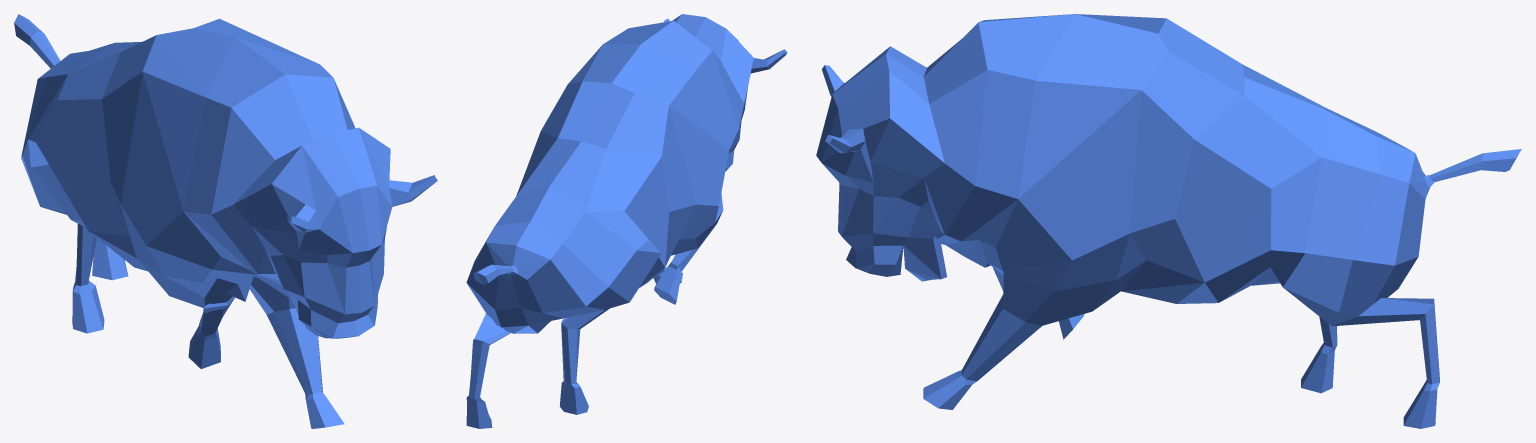
The model's file is bison_007.obj.
The picture shows the model from 3 angles, left to right: view 1: azimuth 30°, elevation 25°; view 2: azimuth 150°, elevation 25°; view 3: azimuth 270°, elevation 25°; orthographic projection. The views are drawn at different scales.
Parts seen in each view (by area): view 1: comp_bison_rig:bison_body comp_bison_rig:bison; view 2: comp_bison_rig:bison_body comp_bison_rig:bison; view 3: comp_bison_rig:bison_body comp_bison_rig:bison.
Boxes of the visible parts, box(x1,y1,x2,y2) form: comp_bison_rig:bison_body comp_bison_rig:bison: box(14, 14, 437, 428); comp_bison_rig:bison_body comp_bison_rig:bison: box(466, 14, 787, 428); comp_bison_rig:bison_body comp_bison_rig:bison: box(816, 14, 1521, 428).
Bounding box in the file's own units: 119 × 196 × 324.
